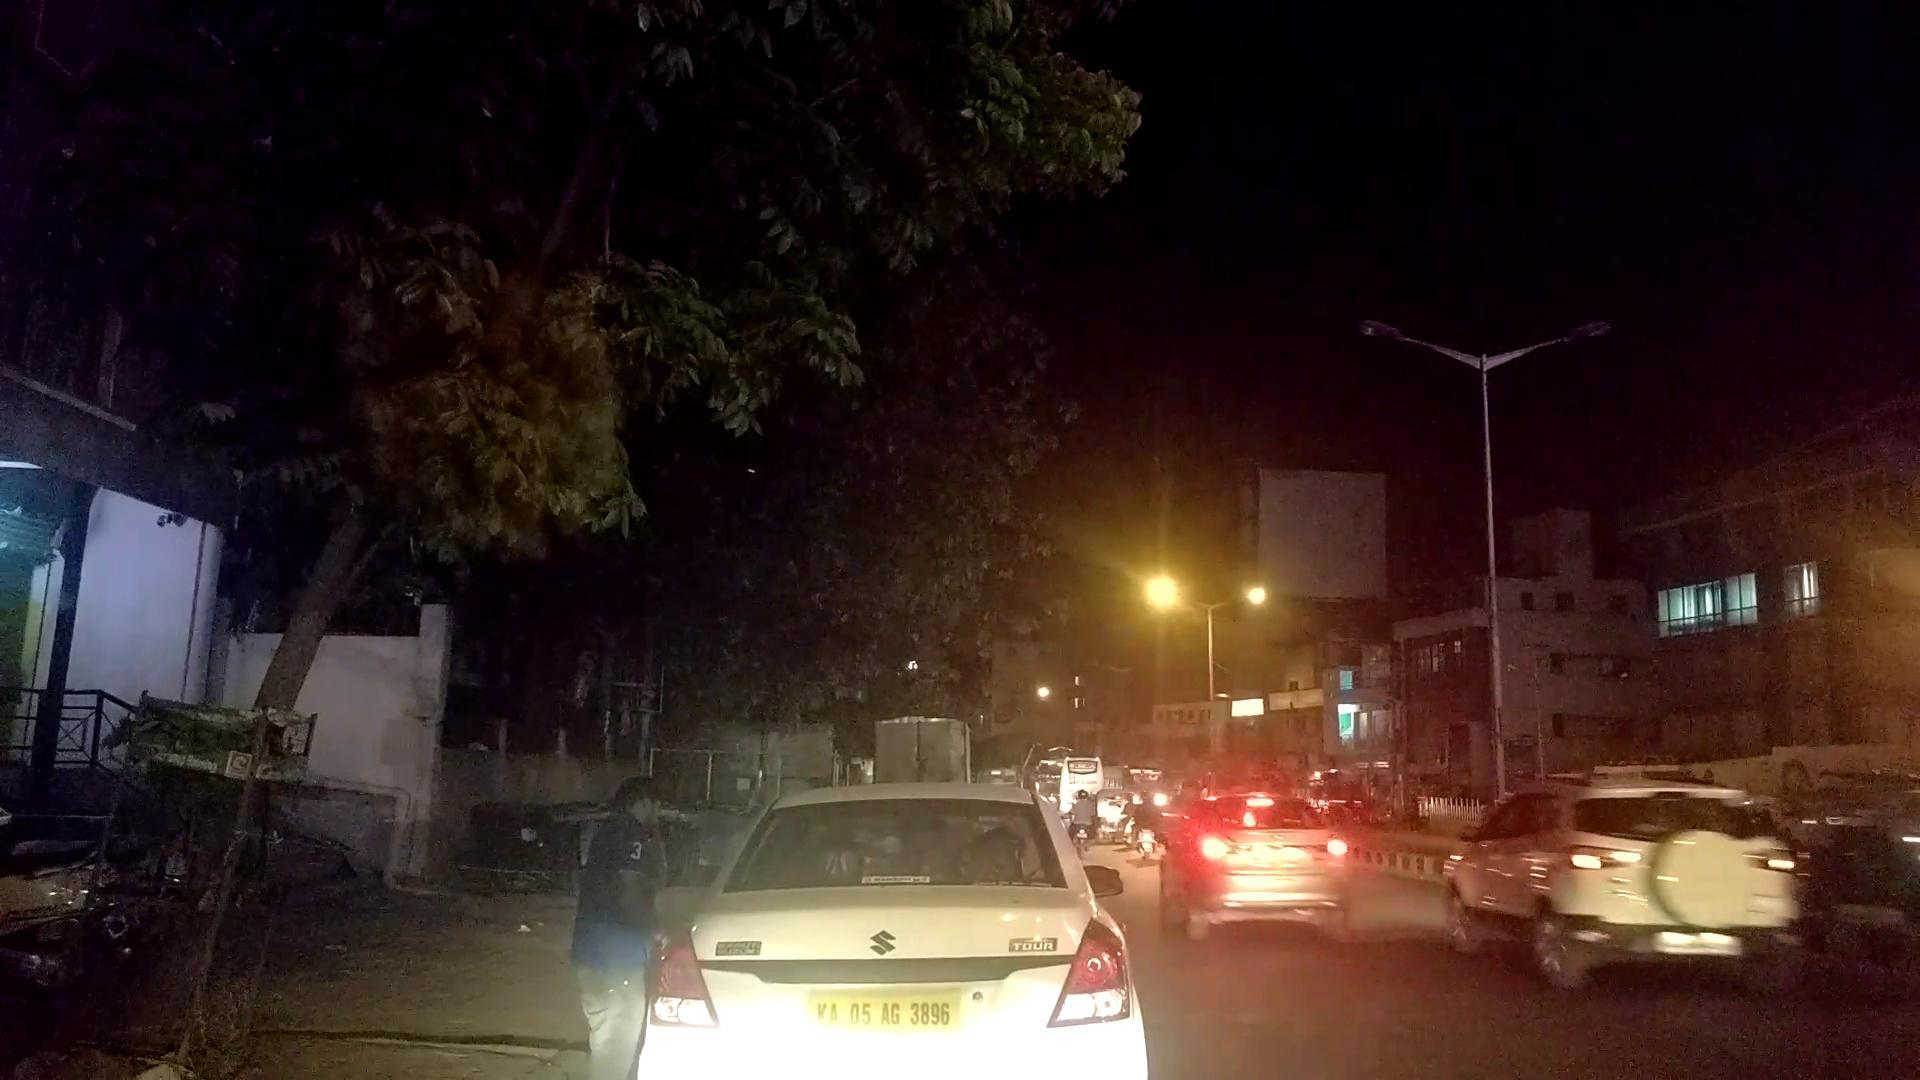on: (880, 352, 1710, 1035)
